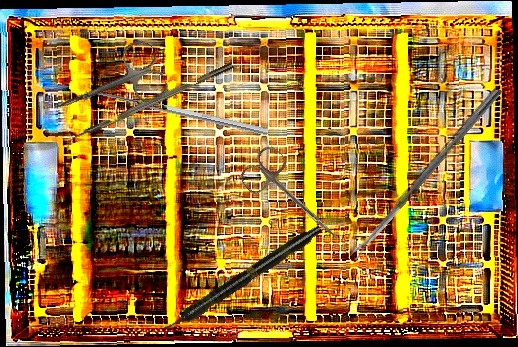Chopper: (61, 62, 238, 152)
Handpiece: (159, 221, 325, 337)
Iris Scissors: (236, 142, 355, 255), (43, 36, 172, 136)
Spatula Surgical: (83, 86, 269, 143)
Surgical Spoon: (348, 85, 503, 261)
